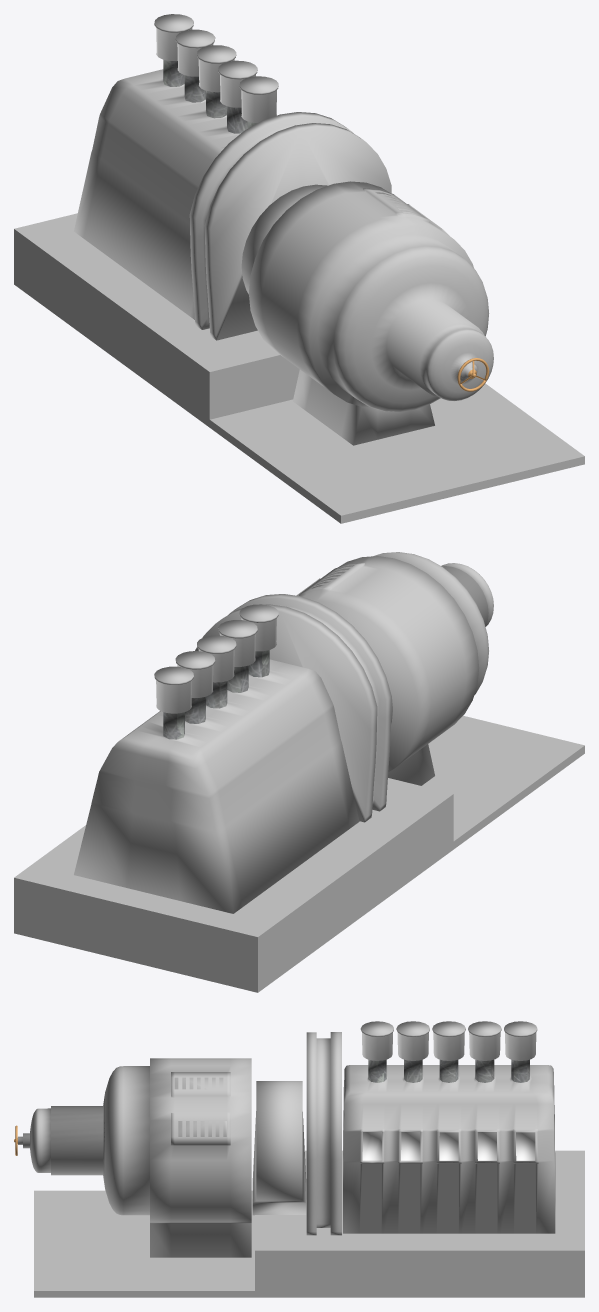
Rendered from gerador.fbx.
3 renders of one model, top to bottom at view 1: azimuth 30°, elevation 25°; view 2: azimuth 150°, elevation 25°; view 3: azimuth 270°, elevation 25°, orthographic. The views are drawn at different scales.
Parts seen in each view (by area): view 1: gerador; view 2: gerador; view 3: gerador.
Boxes of the visible parts, bbox=[...] form: gerador: bbox=[14, 14, 584, 523]; gerador: bbox=[14, 552, 584, 992]; gerador: bbox=[14, 1021, 584, 1297].
Size of the model in its own units: 200 by 204 by 481.
